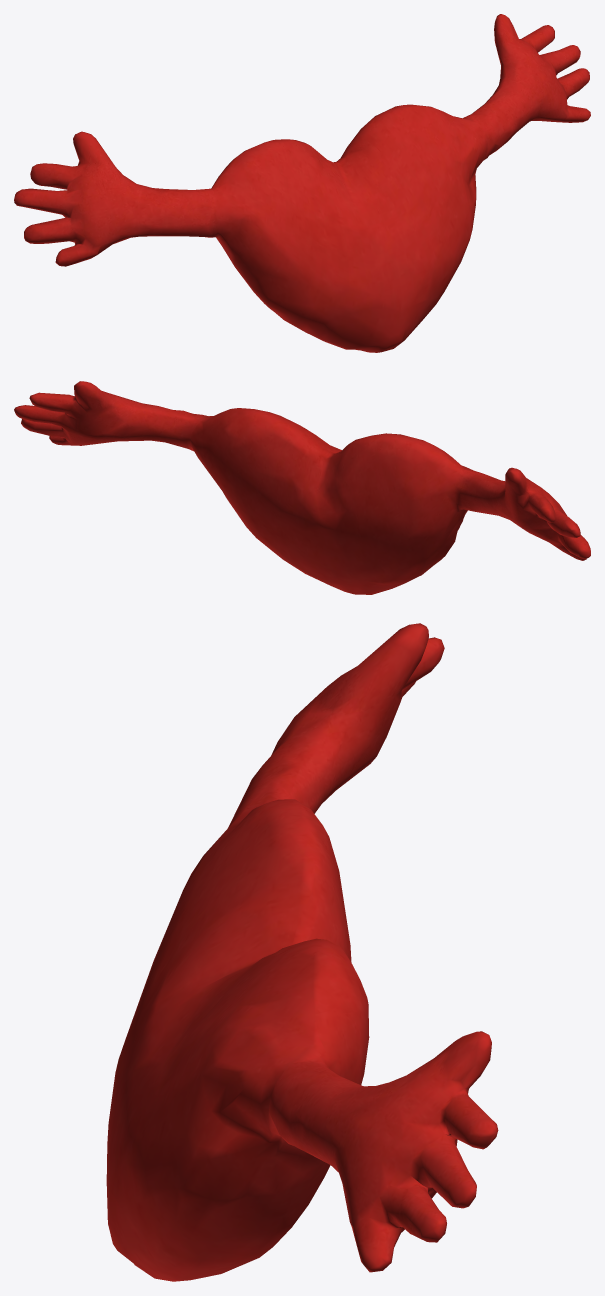
File: Famnig27470460-scene-512.glb
3 renders of one model, top to bottom at view 1: azimuth 30°, elevation 25°; view 2: azimuth 150°, elevation 25°; view 3: azimuth 270°, elevation 25°, orthographic. The views are drawn at different scales.
Visible parts, largest first — view 1: ProcessedMeshNode; view 2: ProcessedMeshNode; view 3: ProcessedMeshNode.
Part boxes in pixels (bbox=[...]): ProcessedMeshNode: bbox=[14, 14, 590, 352]; ProcessedMeshNode: bbox=[14, 381, 590, 594]; ProcessedMeshNode: bbox=[106, 623, 498, 1281].
Bounding box in the file's own units: 0.8893 × 0.3272 × 0.2728.
Materials: 1 (1 with a texture image).
